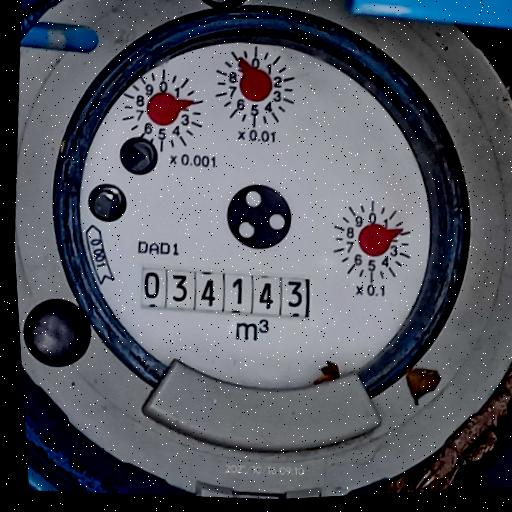0: (139, 267, 168, 308)
1: (222, 273, 255, 314)
3: (165, 269, 199, 312), (279, 277, 310, 320)
4: (193, 271, 227, 312), (250, 275, 283, 316)
border_water_meter_number: (133, 253, 316, 331)
